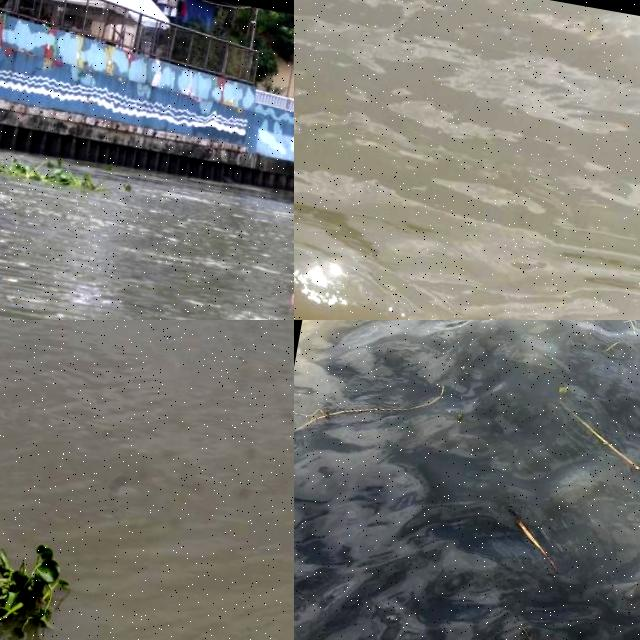water-hyacinth: (1, 518, 101, 640), (1, 144, 115, 198)
